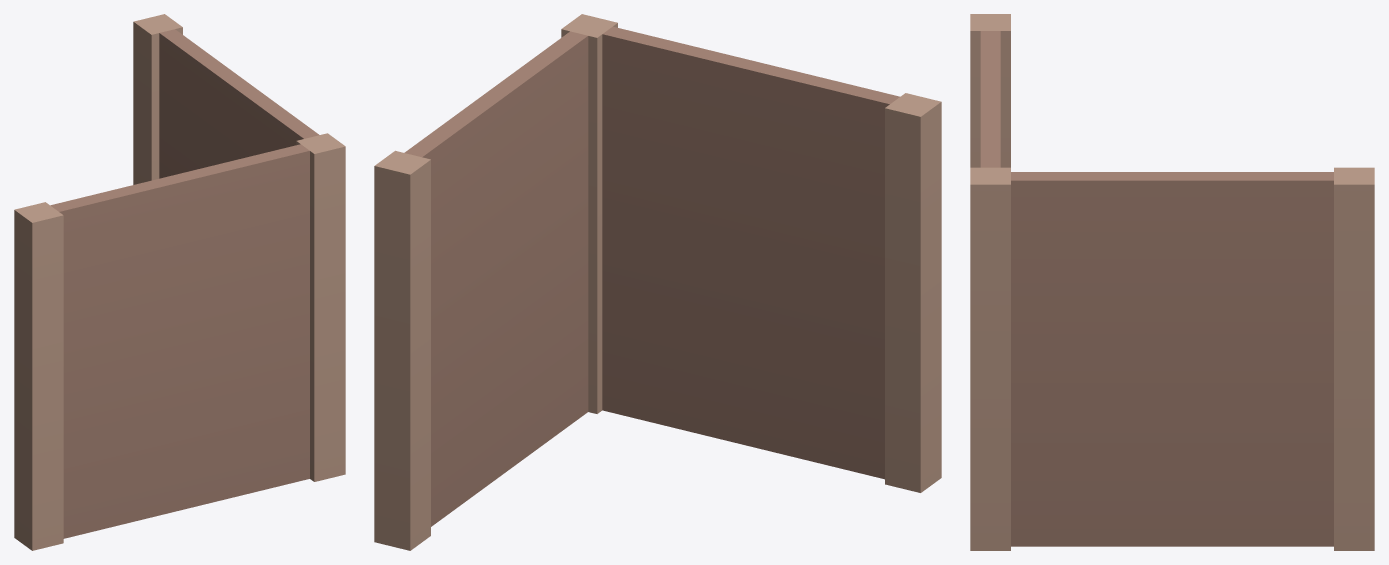
File: wall-wood-corner.glb
3 renders of one model, left to right at view 1: azimuth 30°, elevation 25°; view 2: azimuth 150°, elevation 25°; view 3: azimuth 270°, elevation 25°, orthographic. The views are drawn at different scales.
Parts seen in each view (by area): view 1: wall-wood-corner; view 2: wall-wood-corner; view 3: wall-wood-corner.
Boxes of the visible parts, x1=… form: wall-wood-corner: x1=14, y1=14, x2=345, y2=550; wall-wood-corner: x1=374, y1=14, x2=941, y2=550; wall-wood-corner: x1=970, y1=14, x2=1374, y2=550.
Size of the model in its own units: 1 by 1 by 1.
